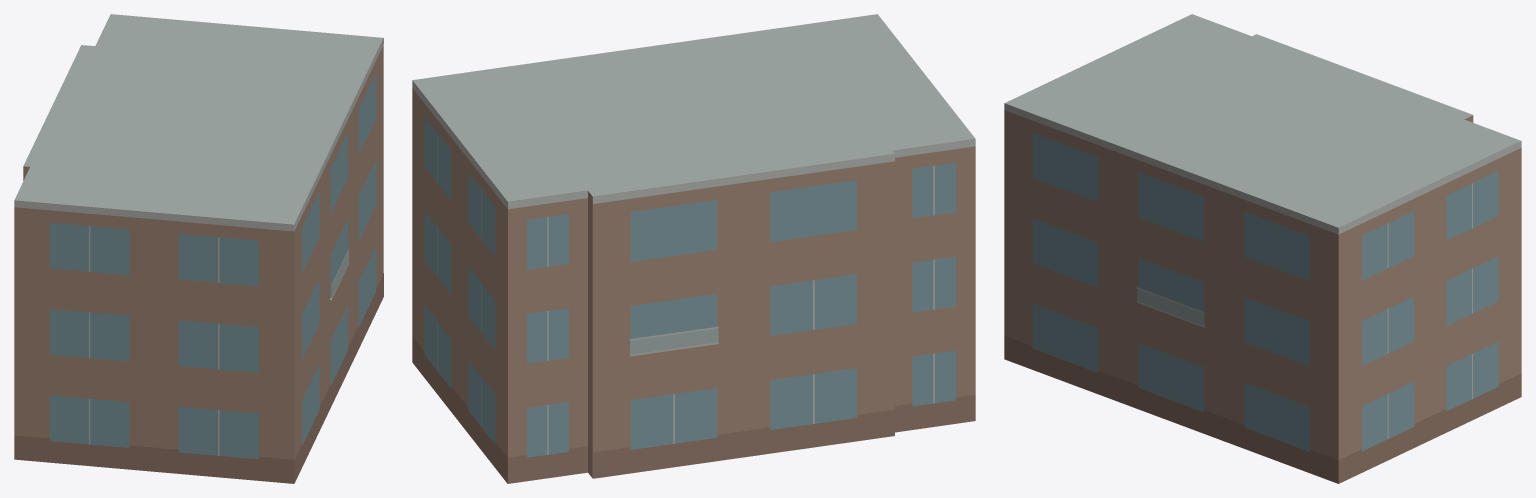
The model's file is survey-upis-32698044.glb.
3 renders of one model, left to right at view 1: azimuth 30°, elevation 25°; view 2: azimuth 150°, elevation 25°; view 3: azimuth 270°, elevation 25°, orthographic. The views are drawn at different scales.
Visible parts, largest first — view 1: survey-upis-32698044.tmp; view 2: survey-upis-32698044.tmp; view 3: survey-upis-32698044.tmp.
Boxes of the visible parts, bbox=[...] form: survey-upis-32698044.tmp: bbox=[14, 14, 383, 483]; survey-upis-32698044.tmp: bbox=[412, 14, 975, 483]; survey-upis-32698044.tmp: bbox=[1004, 14, 1521, 483].
Size of the model in its own units: 16.39 by 9.15 by 16.75.
